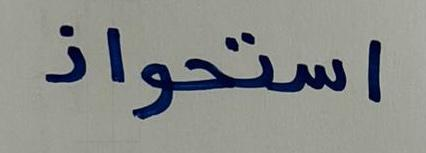alef: (357, 24, 396, 124), (94, 17, 127, 92)
hah: (173, 44, 222, 105)
seen: (282, 38, 351, 111)
teh: (223, 22, 278, 105)
thal: (41, 20, 91, 105)
waw: (130, 48, 172, 124)
